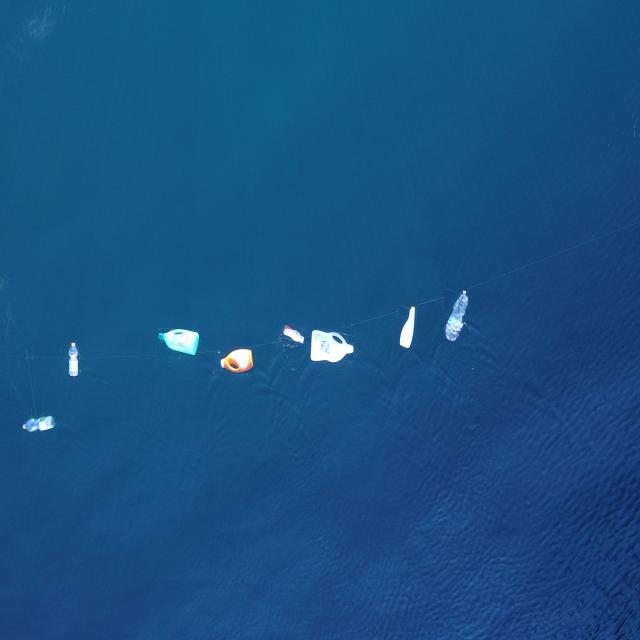bottles: (310, 328, 354, 364), (444, 289, 469, 343), (156, 328, 198, 356), (220, 347, 254, 374), (398, 305, 416, 349), (22, 415, 56, 433), (282, 324, 304, 344), (68, 342, 79, 378)
